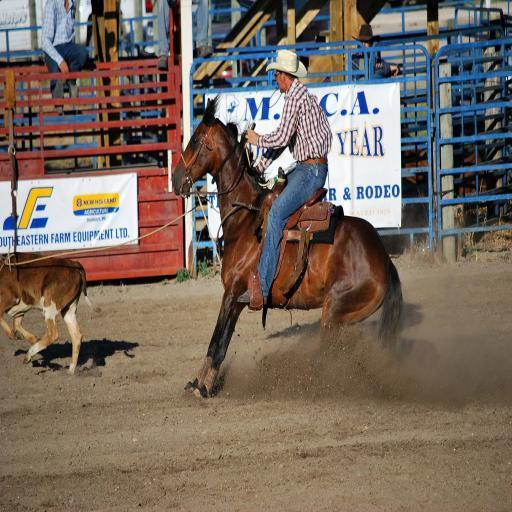horse: (171, 94, 405, 399)
